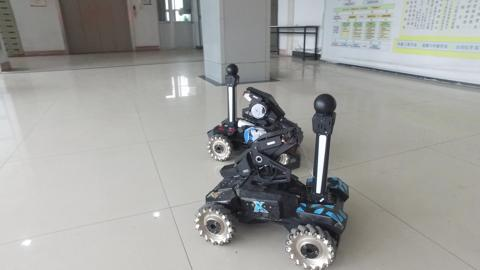chariot: (186, 85, 365, 270), (195, 59, 303, 167)
